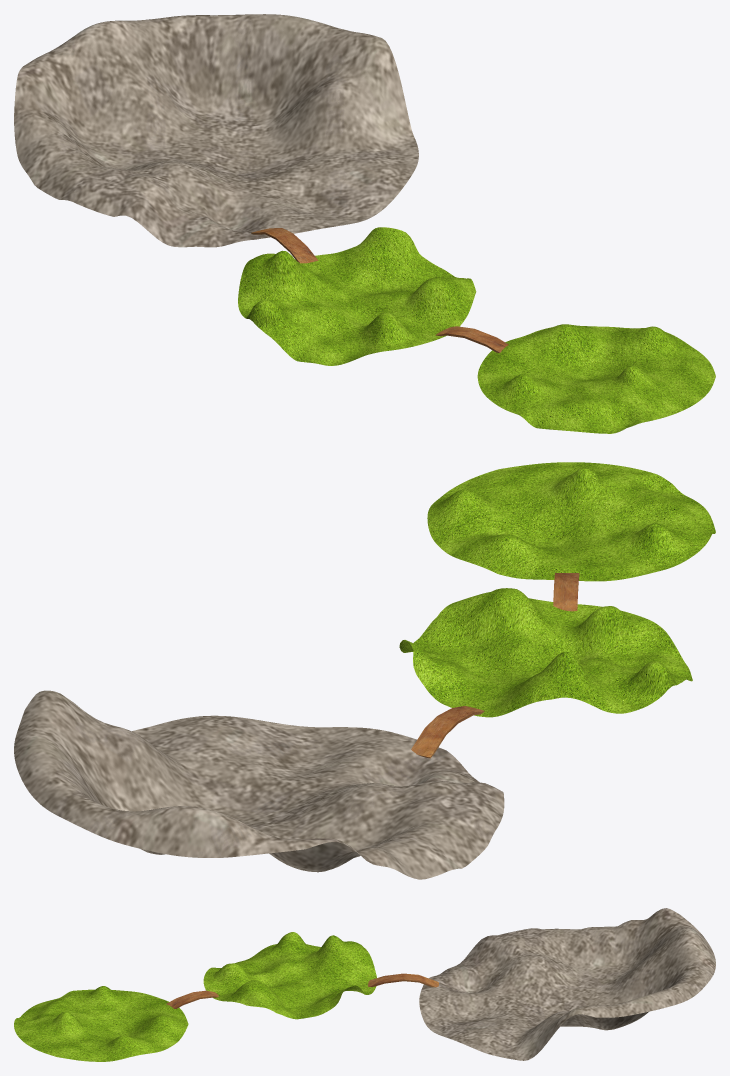
File: shima_001.obj
The picture shows the model from 3 angles, top to bottom: view 1: azimuth 30°, elevation 25°; view 2: azimuth 150°, elevation 25°; view 3: azimuth 270°, elevation 25°; orthographic projection. The views are drawn at different scales.
Parts seen in each view (by area): view 1: polySurface6; view 2: polySurface6; view 3: polySurface6.
Part boxes in pixels (x1,y1,x2,y2): polySurface6: [14, 14, 715, 433]; polySurface6: [14, 462, 715, 879]; polySurface6: [14, 908, 715, 1061].
Size of the model in its own units: 41.09 by 10.08 by 97.23.
3 materials, 3 textured.
